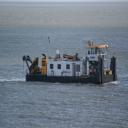tugboat: (23, 39, 120, 90)
